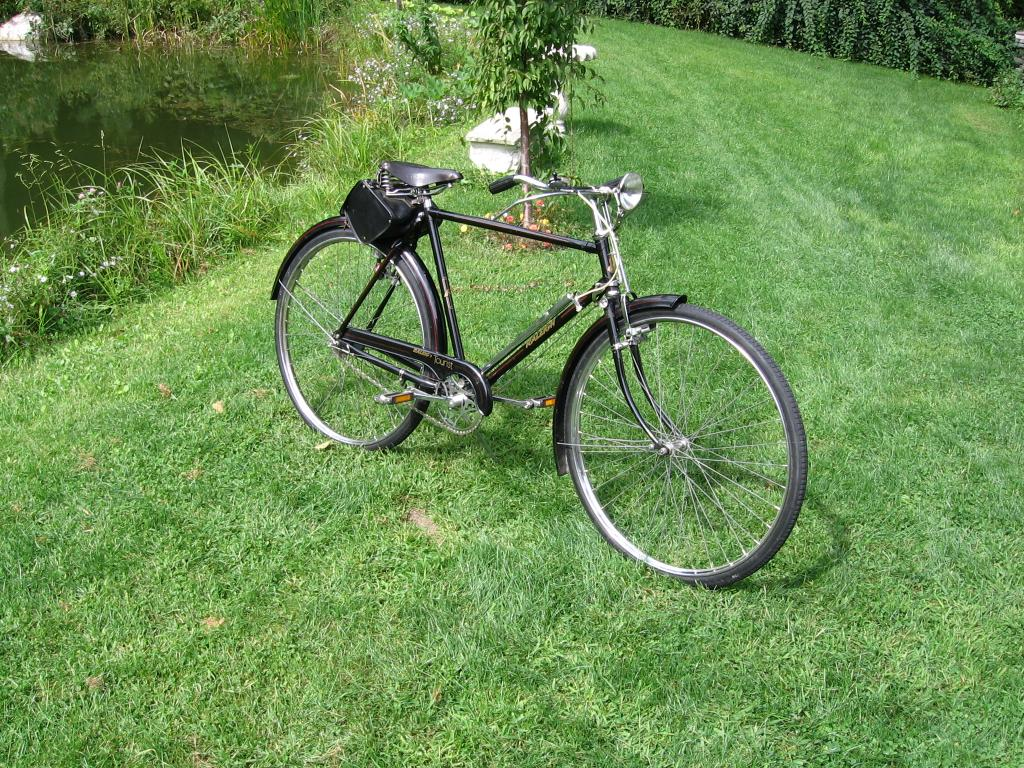cycle: (258, 147, 860, 609)
